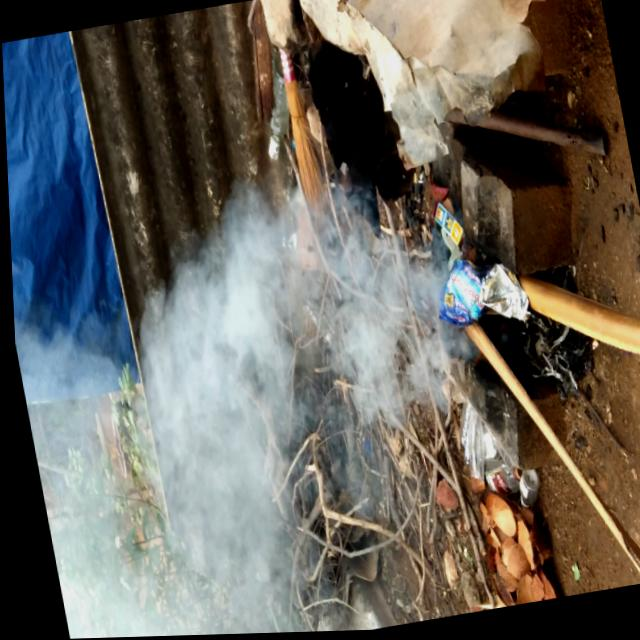no_helmet: (29, 133, 574, 639)
